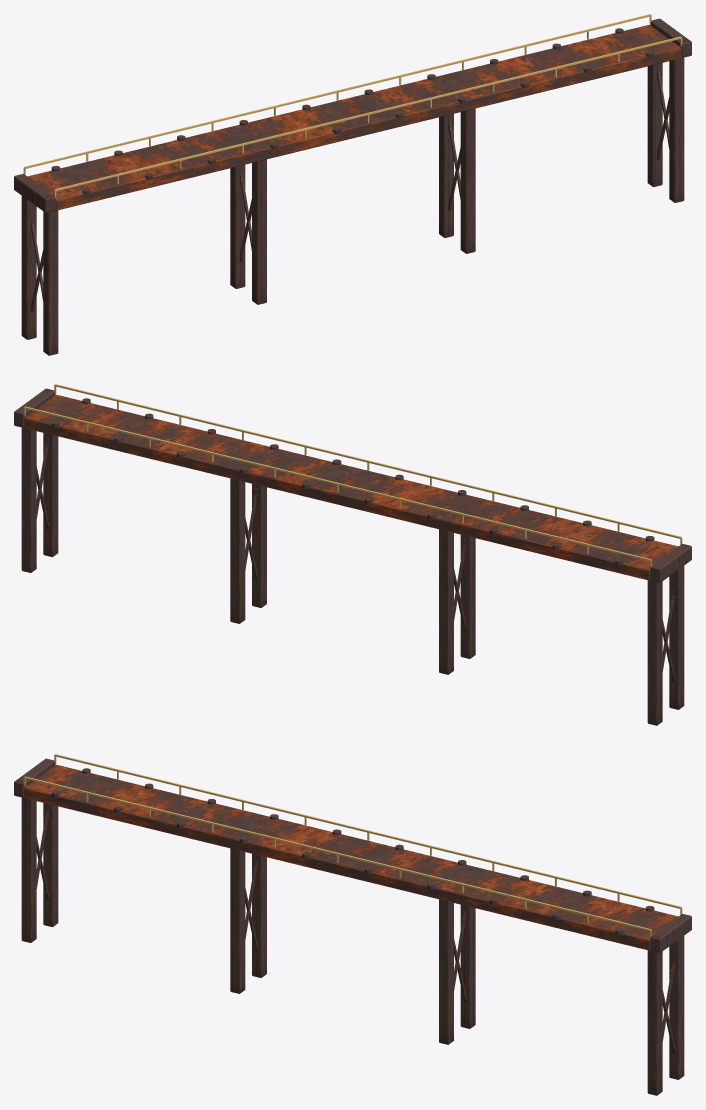
Rendered from conveyorSpan.glb.
3 renders of one model, top to bottom at view 1: azimuth 30°, elevation 25°; view 2: azimuth 150°, elevation 25°; view 3: azimuth 330°, elevation 25°, orthographic.
Visible parts, largest first — view 1: Belt, Leg.0.R, Leg.2.R, Leg.3.R, Leg.1.R, Leg.0.L, BeltRail.-3.8.Top, BeltRail.3.8.Top, Leg.3.L, Leg.1.L, Leg.2.L, EndDrum.-45.75 (+1 smaller); view 2: Belt, Leg.0.L, Leg.2.L, Leg.3.L, Leg.1.L, Leg.0.R, BeltRail.3.8.Top, BeltRail.-3.8.Top, Leg.3.R, Leg.1.R, Leg.2.R, EndDrum.-45.75 (+1 smaller); view 3: Belt, Leg.3.R, Leg.0.R, Leg.1.R, Leg.2.R, Leg.3.L, BeltRail.-3.8.Top, BeltRail.3.8.Top, Leg.0.L, Leg.2.L, Leg.1.L, EndDrum.45.75 (+1 smaller).
Boxes of the visible parts, x1,y1,x2,y2 form: Belt: [27, 24, 681, 210]; Leg.0.R: [43, 210, 58, 355]; Leg.2.R: [460, 108, 475, 253]; Leg.3.R: [669, 57, 684, 202]; Leg.1.R: [252, 159, 266, 304]; Leg.0.L: [21, 196, 36, 339]; BeltRail.-3.8.Top: [24, 14, 651, 168]; BeltRail.3.8.Top: [54, 36, 681, 191]; Leg.3.L: [647, 63, 662, 187]; Leg.1.L: [230, 164, 245, 288]; Leg.2.L: [439, 113, 453, 237]; EndDrum.-45.75: [14, 174, 55, 212]; Belt: [24, 394, 678, 580]; Leg.0.L: [647, 580, 662, 725]; Leg.2.L: [230, 478, 245, 623]; Leg.3.L: [21, 427, 36, 572]; Leg.1.L: [439, 529, 453, 674]; Leg.0.R: [669, 566, 684, 709]; BeltRail.3.8.Top: [54, 384, 681, 538]; BeltRail.-3.8.Top: [24, 406, 651, 561]; Leg.3.R: [43, 433, 58, 557]; Leg.1.R: [460, 534, 475, 658]; Leg.2.R: [252, 483, 266, 607]; EndDrum.-45.75: [650, 544, 691, 582]; Belt: [24, 764, 678, 950]; Leg.3.R: [647, 950, 662, 1095]; Leg.0.R: [21, 797, 36, 942]; Leg.1.R: [230, 848, 245, 993]; Leg.2.R: [439, 899, 453, 1044]; Leg.3.L: [669, 936, 684, 1079]; BeltRail.-3.8.Top: [54, 754, 681, 908]; BeltRail.3.8.Top: [24, 776, 651, 931]; Leg.0.L: [43, 803, 58, 927]; Leg.2.L: [460, 904, 475, 1028]; Leg.1.L: [252, 853, 266, 977]; EndDrum.45.75: [650, 914, 691, 952].
Size of what is drawn, in the model's own units: 93 by 22.91 by 8.7.
Materials: 4 (3 with a texture image).
